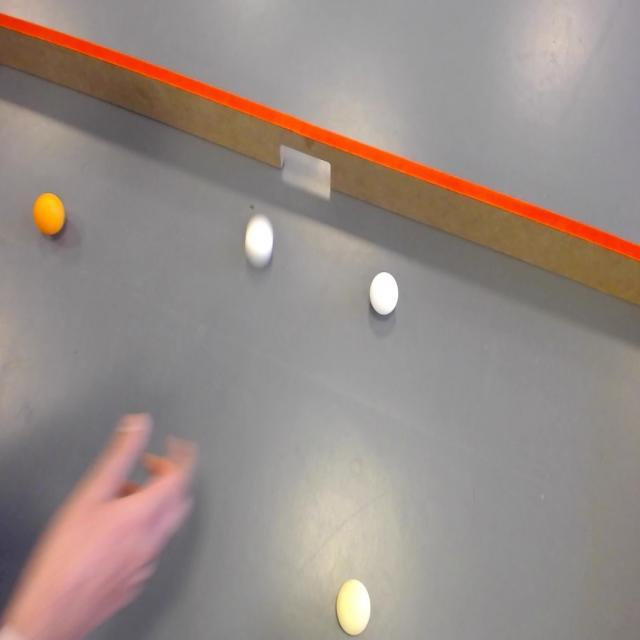orange: (31, 190, 69, 240)
white: (336, 576, 374, 634), (242, 210, 278, 268), (368, 270, 399, 319)
